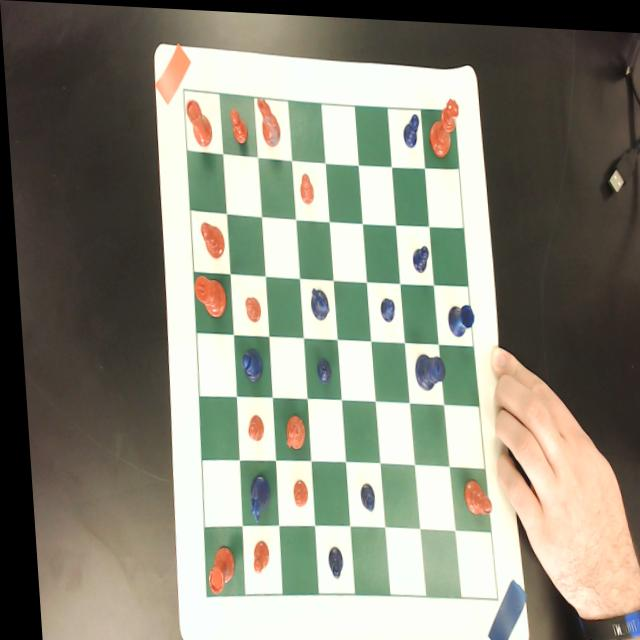B: (235, 346, 259, 381)
K: (409, 349, 441, 388)
N: (241, 470, 265, 523), (306, 284, 326, 319)
P: (400, 108, 420, 143), (319, 542, 337, 577), (409, 240, 427, 269), (376, 292, 393, 319), (311, 354, 328, 381), (353, 478, 368, 508)
R: (442, 298, 472, 334)
b: (456, 474, 486, 513), (197, 219, 223, 258)
k: (189, 272, 224, 316)
n: (255, 94, 280, 147), (278, 410, 301, 451)
p: (227, 104, 247, 143), (243, 537, 263, 574), (296, 168, 312, 203), (285, 475, 303, 506), (241, 411, 259, 440), (241, 292, 257, 321)
q: (425, 93, 461, 154)
r: (197, 539, 232, 599), (184, 95, 213, 146)
